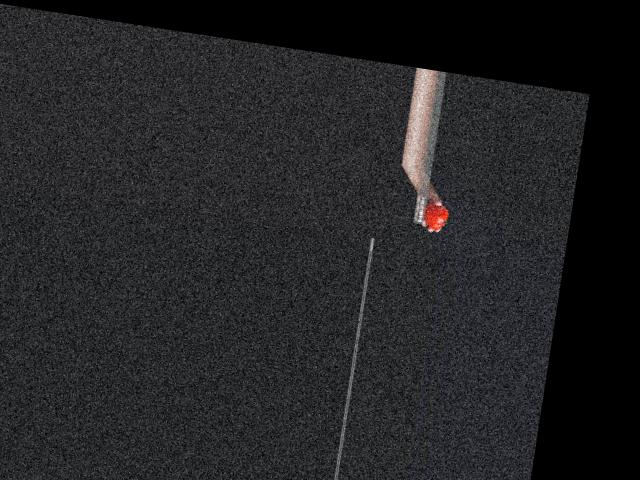tomato: (421, 202, 450, 231)
